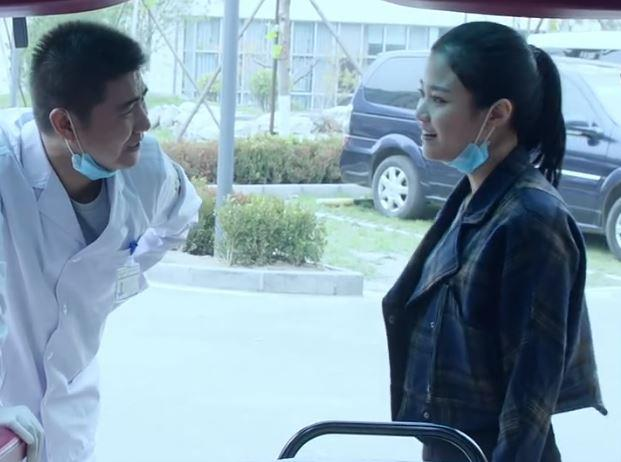WRONG: (94, 82, 153, 174), (419, 69, 473, 166)
